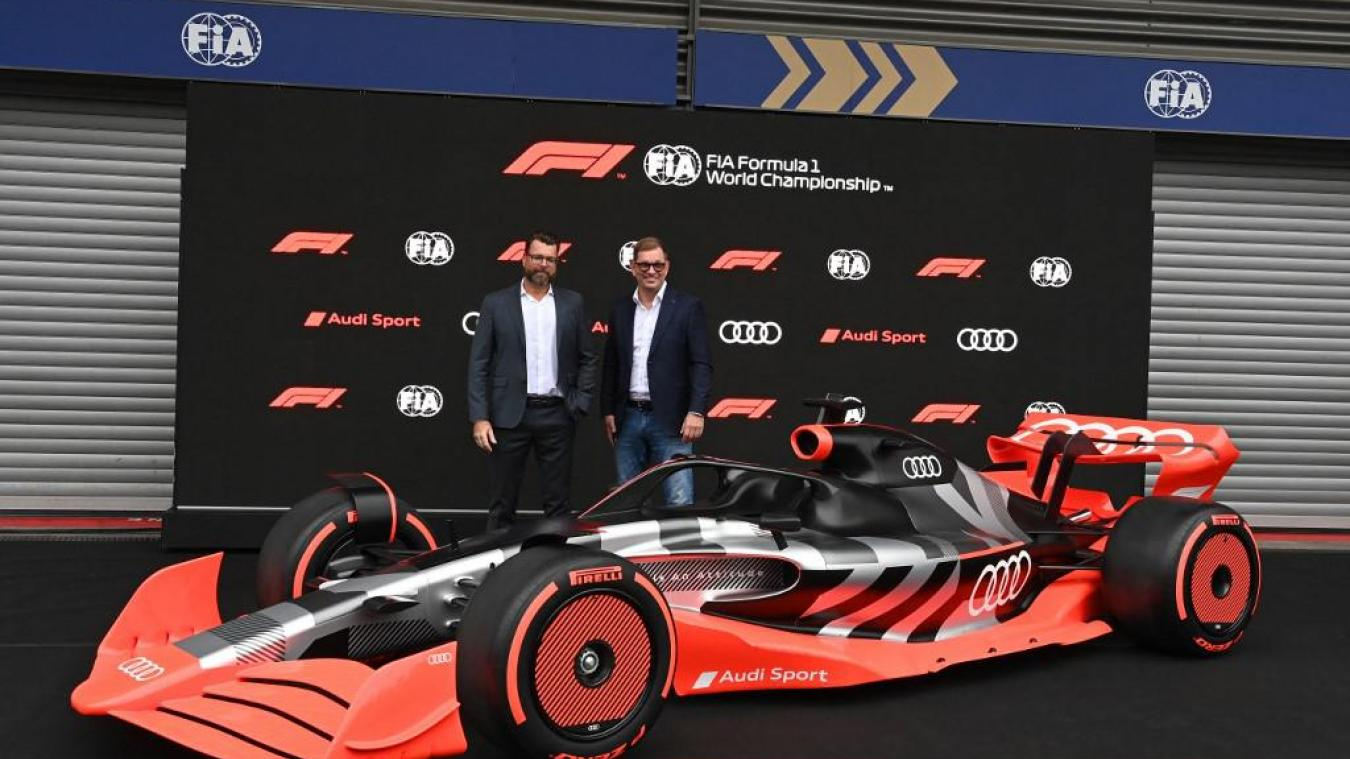Formule 1: (74, 411, 1255, 759)
